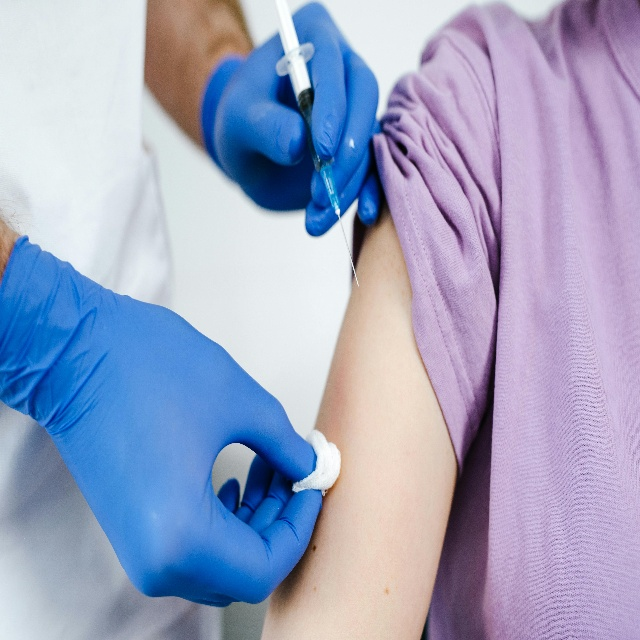Guantes: (0, 226, 323, 609), (200, 5, 383, 239)
